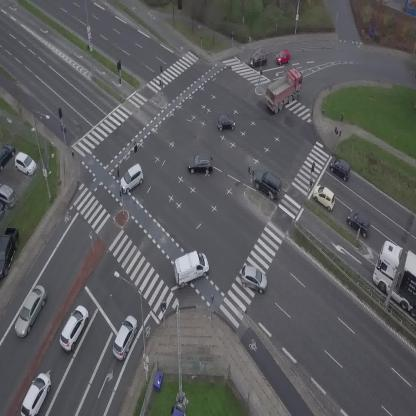car: (9, 283, 52, 340), (54, 302, 94, 353), (16, 370, 56, 416), (107, 313, 142, 361), (248, 166, 288, 202), (113, 162, 149, 195), (237, 264, 271, 294), (342, 208, 375, 238), (309, 183, 340, 211), (326, 153, 356, 181), (187, 154, 213, 173), (247, 50, 269, 67), (273, 48, 292, 65), (217, 114, 235, 131)
lorry: (373, 240, 416, 317), (257, 65, 312, 114), (167, 247, 214, 290)
